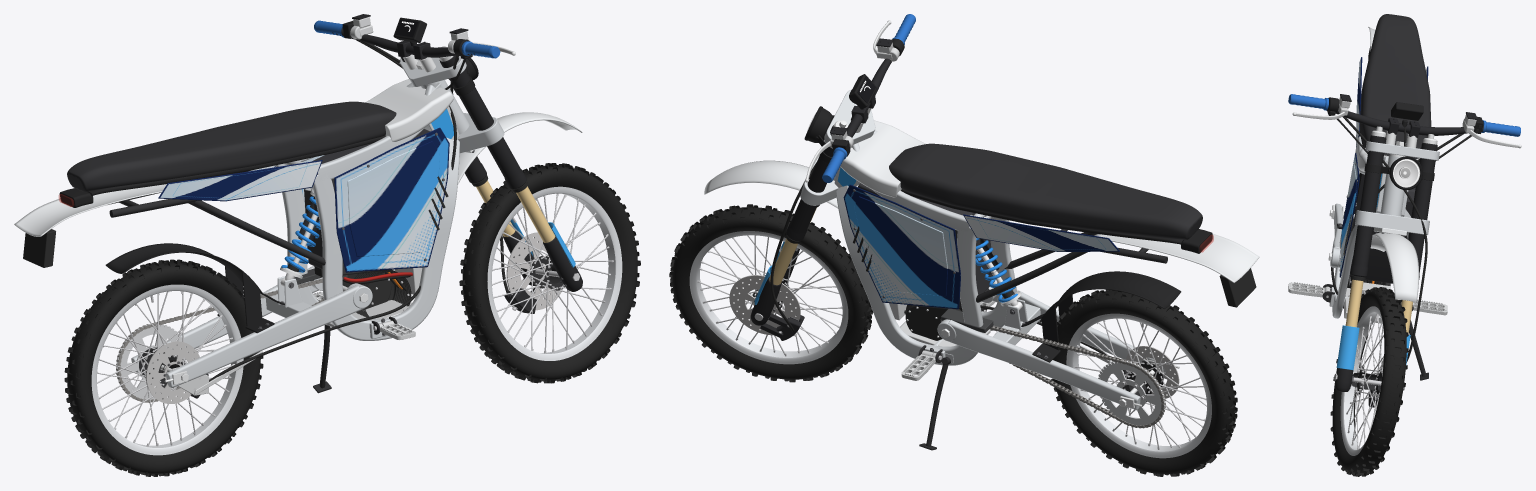
The model's file is surron-light-bee-x-glacier.glb.
3 views of the same model, side by side, from view 1: azimuth 30°, elevation 25°; view 2: azimuth 150°, elevation 25°; view 3: azimuth 270°, elevation 25° (orthographic). The views are drawn at different scales.
Visible parts, largest first — view 1: Seat, Tire_R, Tire_F, Frame_Main, SidePanel_Inner_R, Swingarm_Arms, SidePanel_R, Rim_F, Rim_R, RearCover_R, Spokes_F, Spokes_R (+24 smaller); view 2: Seat, Tire_F, Tire_R, Frame_Main, SidePanel_Inner_L, Swingarm_Arms, Rim_F, SidePanel_L, Rim_R, TankCover, RearCover_L, RearFender (+20 smaller); view 3: Seat, Tire_F, FrontFender, Fork_Upper_R, Spokes_F, Frame_Main, Rim_F, Fork_Upper_L, Battery_Pack, TripleClamp_Lower, Handlebar, Fork_Guards (+22 smaller).
Part boxes in pixels (left/top/right/bottom): Seat: left=67, top=101, right=396, bottom=191; Tire_R: left=64, top=259, right=263, bottom=476; Tire_F: left=459, top=163, right=640, bottom=383; Frame_Main: left=275, top=82, right=459, bottom=340; SidePanel_Inner_R: left=347, top=141, right=439, bottom=256; Swingarm_Arms: left=131, top=266, right=372, bottom=387; SidePanel_R: left=334, top=127, right=449, bottom=272; Rim_F: left=487, top=186, right=622, bottom=360; Rim_R: left=91, top=284, right=243, bottom=455; RearCover_R: left=158, top=160, right=322, bottom=201; Spokes_F: left=492, top=194, right=612, bottom=352; Spokes_R: left=97, top=291, right=233, bottom=446; Seat: left=889, top=143, right=1202, bottom=239; Tire_F: left=669, top=204, right=873, bottom=382; Tire_R: left=1050, top=289, right=1237, bottom=476; Frame_Main: left=834, top=130, right=1016, bottom=365; SidePanel_Inner_L: left=854, top=196, right=947, bottom=296; Swingarm_Arms: left=937, top=280, right=1170, bottom=410; Rim_F: left=689, top=231, right=848, bottom=364; SidePanel_L: left=843, top=184, right=961, bottom=309; Rim_R: left=1066, top=313, right=1211, bottom=458; TankCover: left=840, top=120, right=925, bottom=197; RearCover_L: left=963, top=214, right=1119, bottom=251; RearFender: left=1094, top=234, right=1259, bottom=282; Seat: left=1359, top=14, right=1431, bottom=158; Tire_F: left=1330, top=287, right=1408, bottom=476; FrontFender: left=1370, top=232, right=1419, bottom=302; Fork_Upper_R: left=1350, top=135, right=1386, bottom=277; Spokes_F: left=1346, top=315, right=1383, bottom=448; Frame_Main: left=1329, top=136, right=1411, bottom=318; Rim_F: left=1340, top=306, right=1382, bottom=455; Fork_Upper_L: left=1408, top=143, right=1437, bottom=279; Battery_Pack: left=1350, top=174, right=1415, bottom=283; TripleClamp_Lower: left=1355, top=210, right=1429, bottom=234; Handlebar: left=1322, top=108, right=1483, bottom=135; Fork_Guards: left=1336, top=325, right=1410, bottom=370.
Size of the model in its own units: 1.97 by 1.19 by 0.7598.
Materials: 43 (2 with a texture image).
